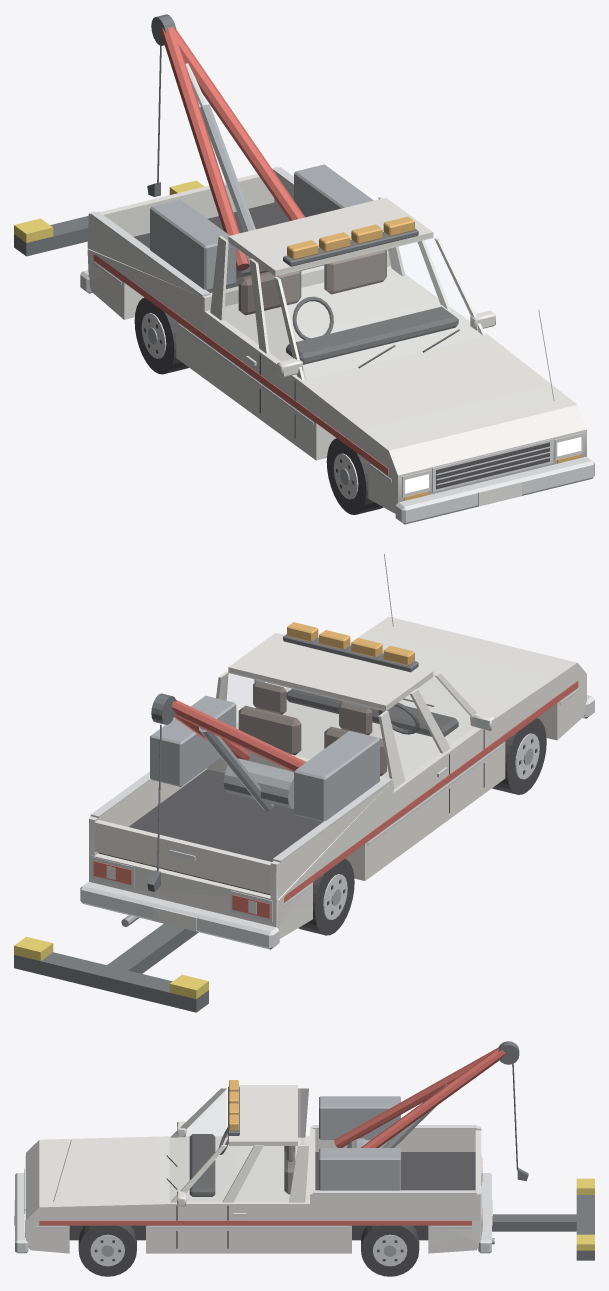
The model's file is tow_truck.glb.
3 views of the same model, one above another, from view 1: azimuth 30°, elevation 25°; view 2: azimuth 150°, elevation 25°; view 3: azimuth 270°, elevation 25° (orthographic). The views are drawn at different scales.
Visible parts, largest first — view 1: tow_truck_tow_w, tow_truck_glass, tow_truck_chrome, tow_truck_steel, tow_truck_paint_r, tow_truck_dark, tow_truck_vinyl, tow_truck_rubber, tow_truck_steel_d, tow_truck_flag_o, tow_truck_paint_y, tow_truck_lamp_glass; view 2: tow_truck_tow_w, tow_truck_steel, tow_truck_glass, tow_truck_dark, tow_truck_chrome, tow_truck_steel_d, tow_truck_paint_r, tow_truck_vinyl, tow_truck_rubber, tow_truck_flag_o, tow_truck_paint_y, tow_truck_neon_r (+1 smaller); view 3: tow_truck_tow_w, tow_truck_glass, tow_truck_steel, tow_truck_paint_r, tow_truck_chrome, tow_truck_dark, tow_truck_rubber, tow_truck_steel_d, tow_truck_paint_y, tow_truck_flag_o, tow_truck_vinyl.
Boxes of the visible parts, box(x1,y1,x2,y2) form: tow_truck_tow_w: box(87, 167, 586, 513); tow_truck_glass: box(225, 238, 481, 378); tow_truck_chrome: box(80, 63, 594, 524); tow_truck_steel: box(148, 104, 373, 485); tow_truck_paint_r: box(93, 26, 388, 475); tow_truck_dark: box(134, 202, 549, 494); tow_truck_vinyl: box(238, 249, 386, 315); tow_truck_rubber: box(134, 297, 383, 514); tow_truck_steel_d: box(14, 14, 418, 266); tow_truck_flag_o: box(287, 216, 580, 500); tow_truck_paint_y: box(14, 180, 204, 242); tow_truck_lamp_glass: box(405, 437, 581, 493); tow_truck_tow_w: box(89, 616, 586, 938); tow_truck_steel: box(121, 695, 533, 926); tow_truck_glass: box(224, 673, 473, 777); tow_truck_dark: box(98, 688, 537, 914); tow_truck_chrome: box(80, 553, 594, 949); tow_truck_steel_d: box(14, 634, 418, 1012); tow_truck_paint_r: box(171, 681, 578, 902); tow_truck_vinyl: box(238, 680, 386, 776); tow_truck_rubber: box(298, 718, 546, 935); tow_truck_flag_o: box(287, 622, 414, 665); tow_truck_paint_y: box(14, 936, 208, 999); tow_truck_neon_r: box(93, 861, 270, 918); tow_truck_tow_w: box(26, 1085, 481, 1253); tow_truck_glass: box(170, 1089, 303, 1200); tow_truck_steel: box(101, 1084, 494, 1256); tow_truck_paint_r: box(39, 1047, 505, 1225); tow_truck_chrome: box(15, 1125, 491, 1266); tow_truck_dark: box(24, 1127, 475, 1261); tow_truck_rubber: box(69, 1225, 428, 1276); tow_truck_steel_d: box(228, 1041, 594, 1260); tow_truck_paint_y: box(576, 1178, 594, 1250); tow_truck_flag_o: box(25, 1080, 238, 1237); tow_truck_vinyl: box(284, 1146, 295, 1194).
Size of the model in its own units: 2 by 2.44 by 6.38.
